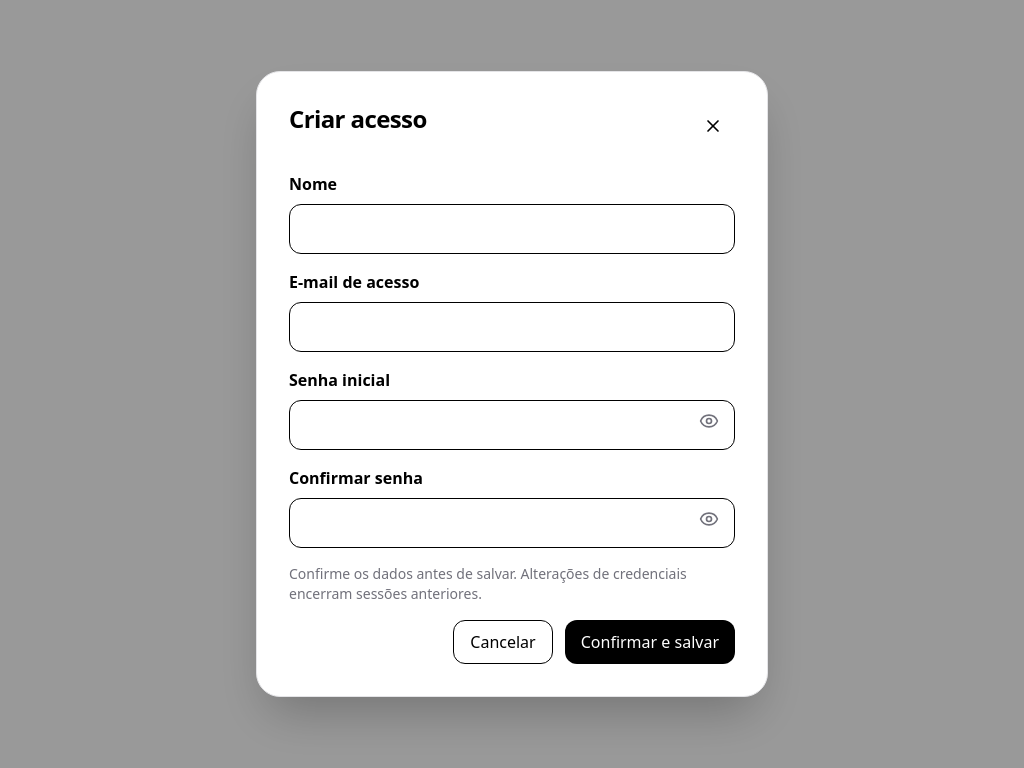
Scenario: creation dialog presents a safe distinct error for {"code":"functions/permission-denied"}
Type "Admin Test" into the field labelled "Nome". click: point(512, 229)
box: [289,204,735,254]
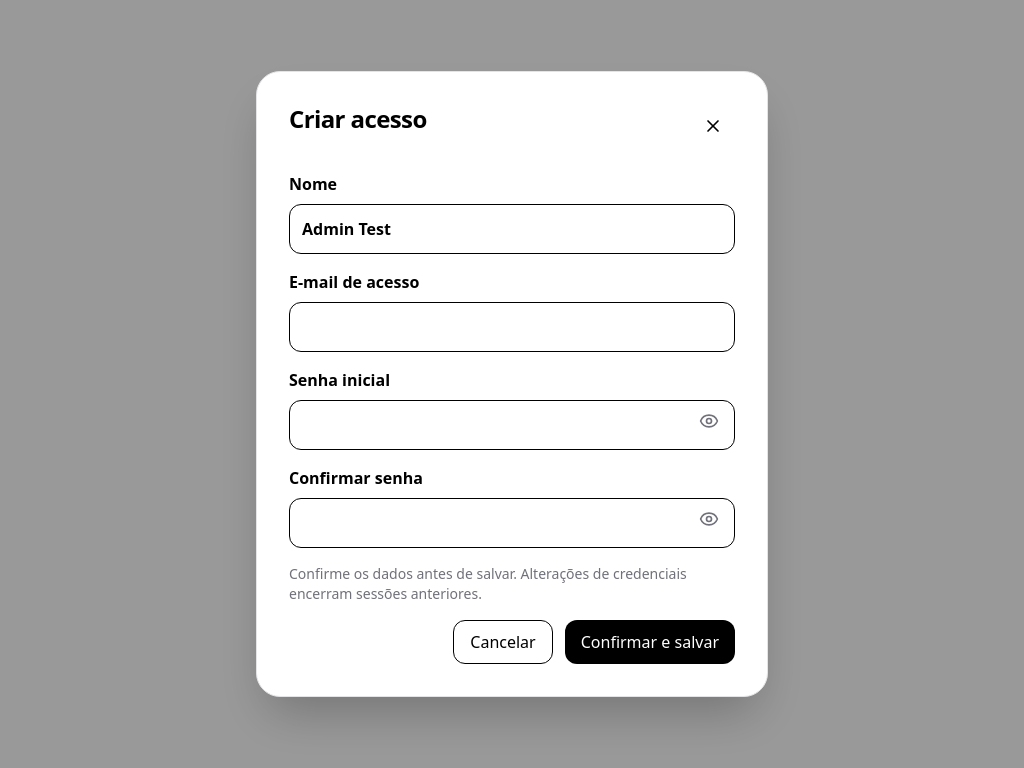
Type "admin@example.test" into the field labelled "E-mail de acesso". click: point(512, 327)
box: [289,302,735,352]
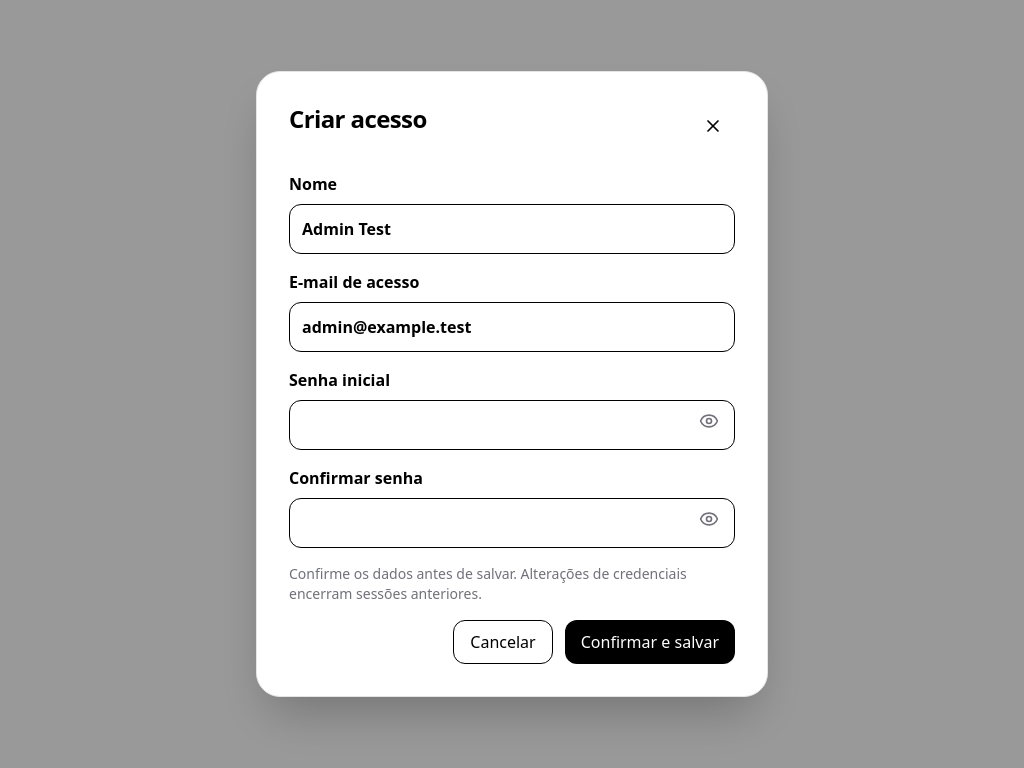
Type "example-only-123" into the password field labelled "Senha inicial". click: point(512, 425)
box: [289,400,735,450]
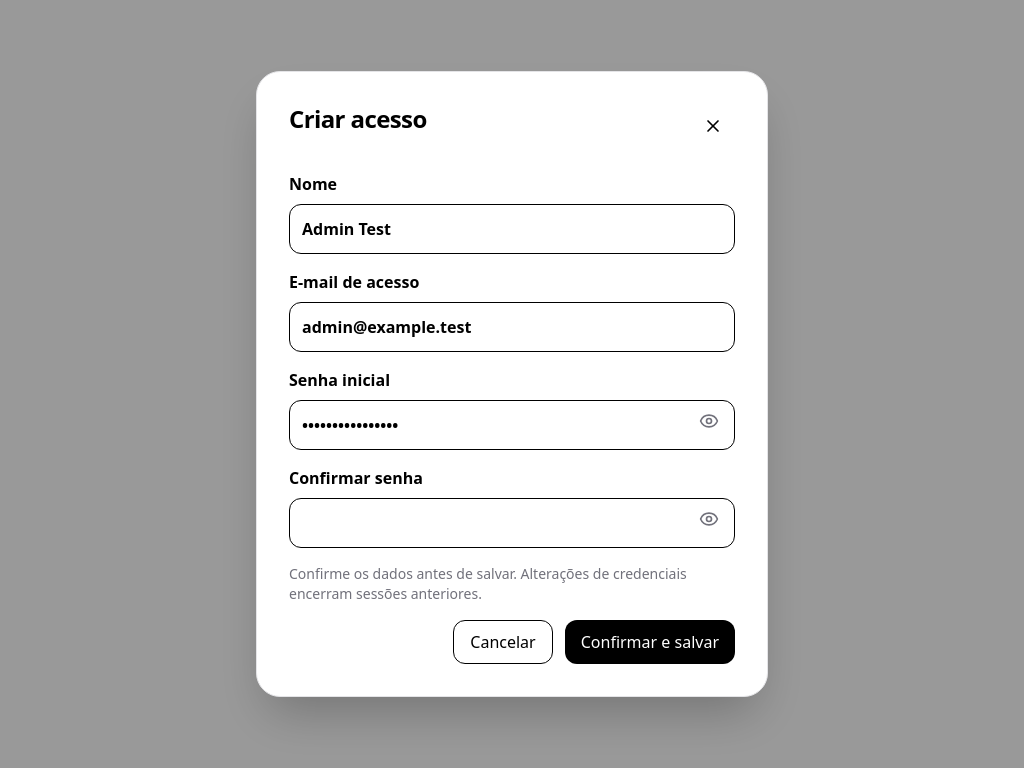
Type "example-only-123" into the password field labelled "Confirmar senha". click: point(512, 523)
box: [289,498,735,548]
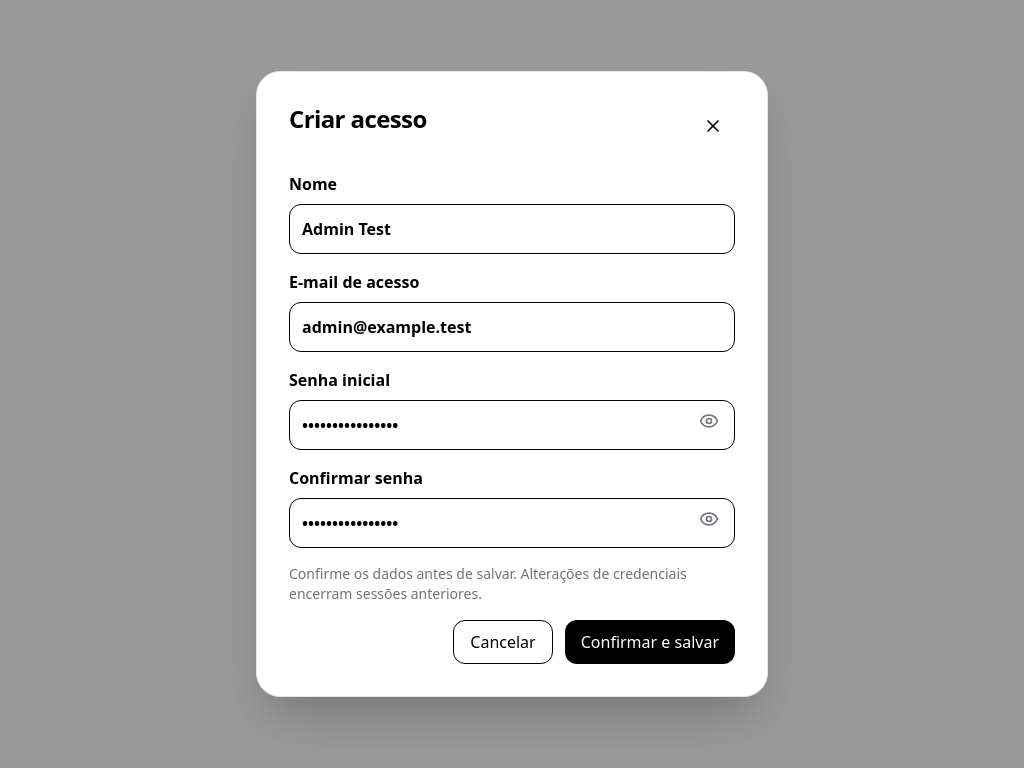
Click the button "Confirmar e salvar". click: point(650, 642)
box: [565,620,735,664]
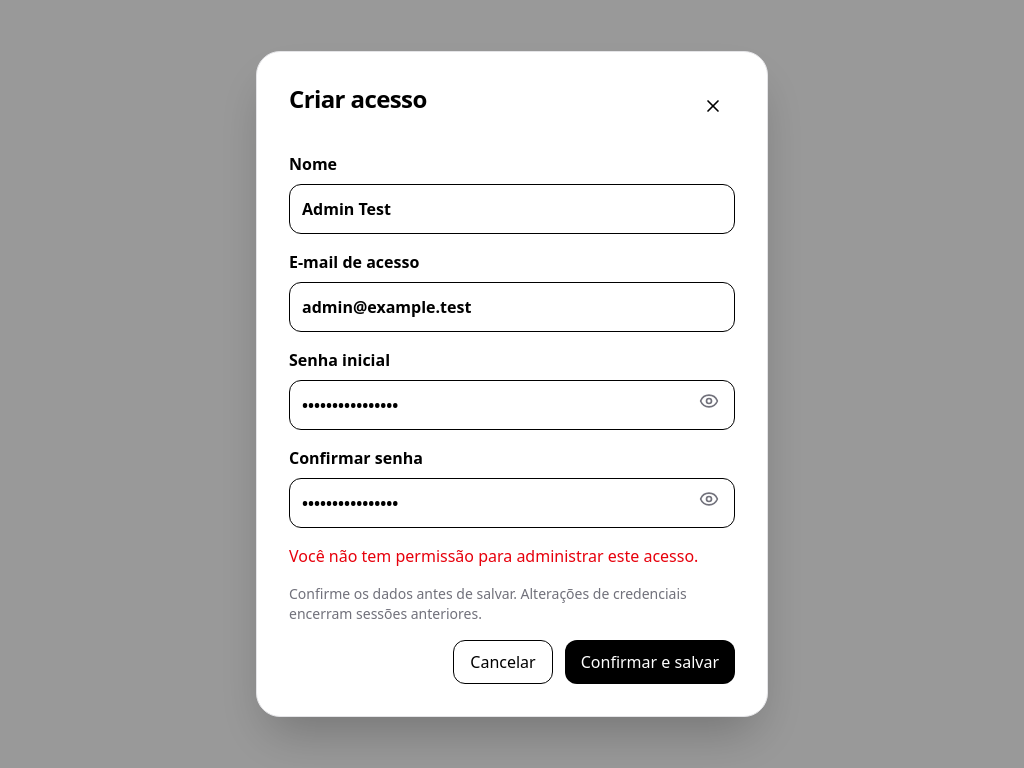
Check: the message reads "Você não tem permissão para administrar este acesso.", box [289,545,698,567]
